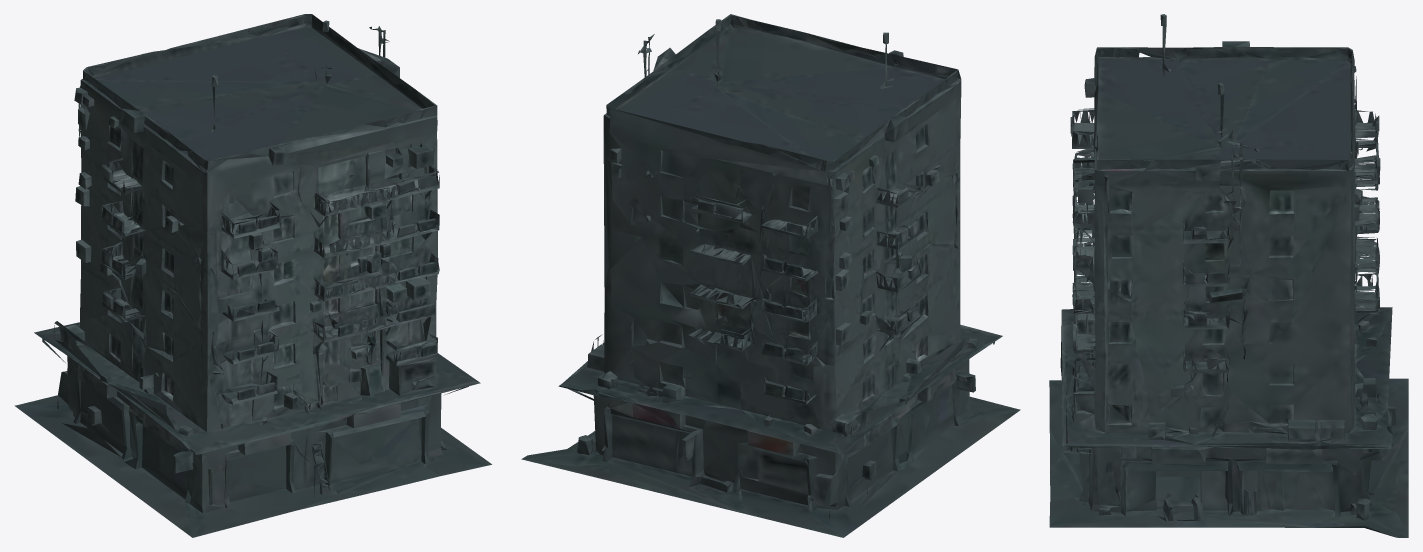
File: mx_bld_apartment.glb
3 views of the same model, side by side, from view 1: azimuth 30°, elevation 25°; view 2: azimuth 150°, elevation 25°; view 3: azimuth 270°, elevation 25° (orthographic).
Bounding box in the file's own units: 1.61 × 1.9 × 1.53.
Materials: 1 (1 with a texture image).
